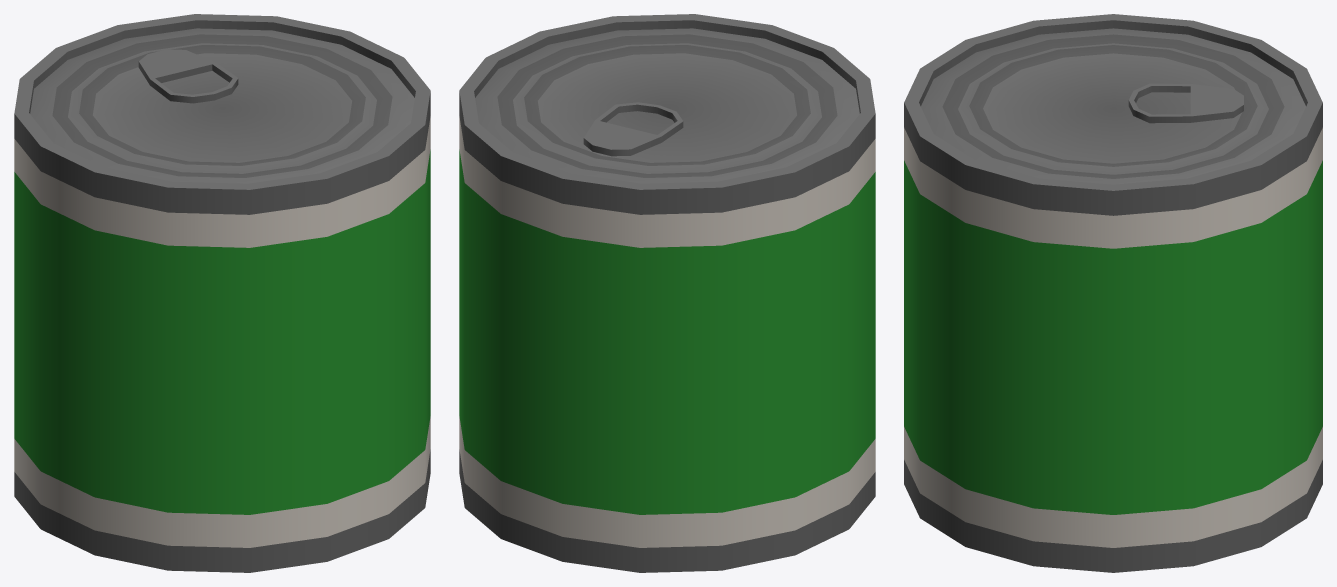
The picture shows the model from 3 angles, left to right: view 1: azimuth 30°, elevation 25°; view 2: azimuth 150°, elevation 25°; view 3: azimuth 270°, elevation 25°; orthographic projection.
Parts seen in each view (by area): view 1: base; view 2: base; view 3: base.
Part boxes in pixels (left/top/right/bottom): base: left=14, top=14, right=430, bottom=572; base: left=459, top=14, right=875, bottom=572; base: left=904, top=14, right=1322, bottom=572.
Bounding box in the file's own units: 0.4938 × 0.5 × 0.4938.
